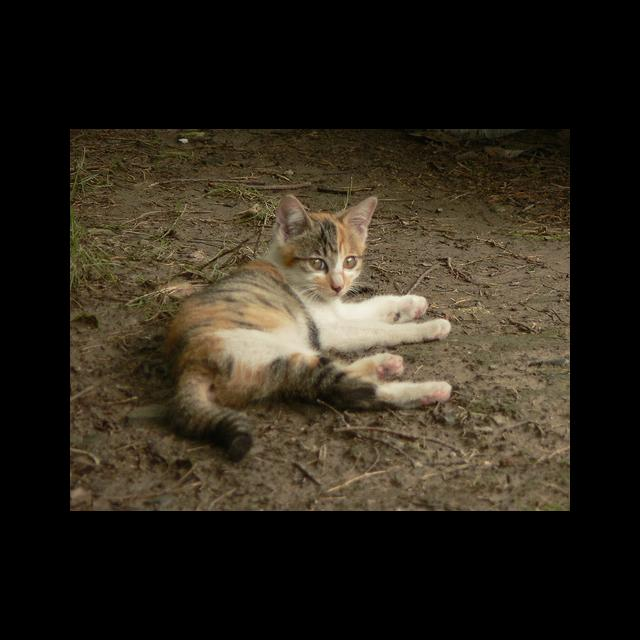animals: (280, 196, 375, 292)
